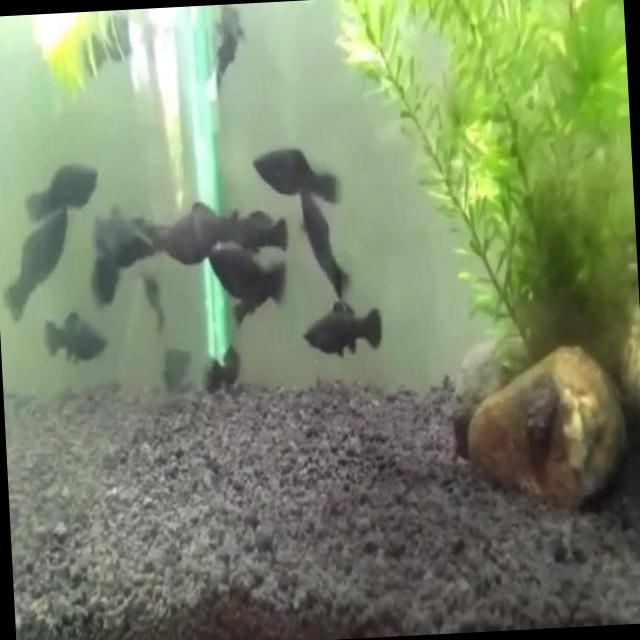PlatyFish: (293, 292, 393, 371), (248, 138, 346, 216)
